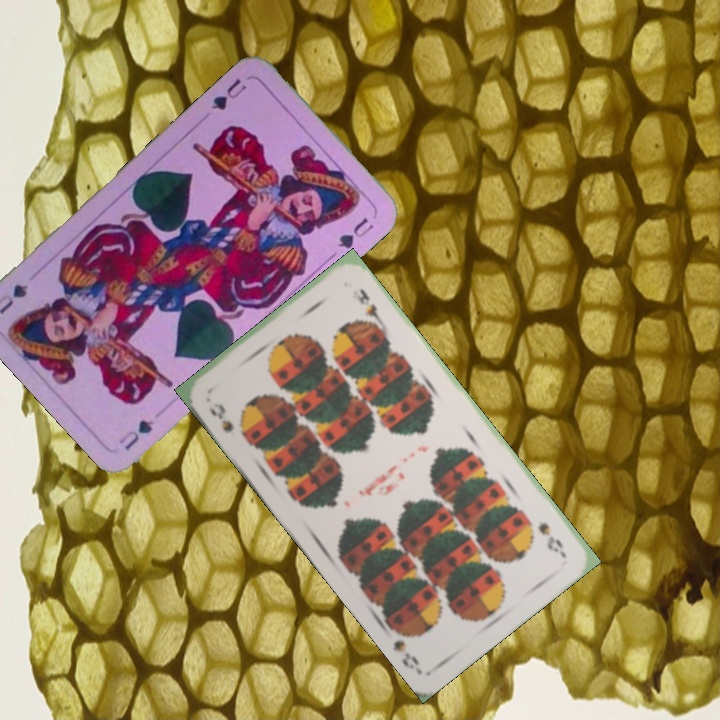GU: (206, 74, 249, 116), (114, 416, 157, 453)
S9: (205, 398, 249, 441), (534, 518, 567, 559)
